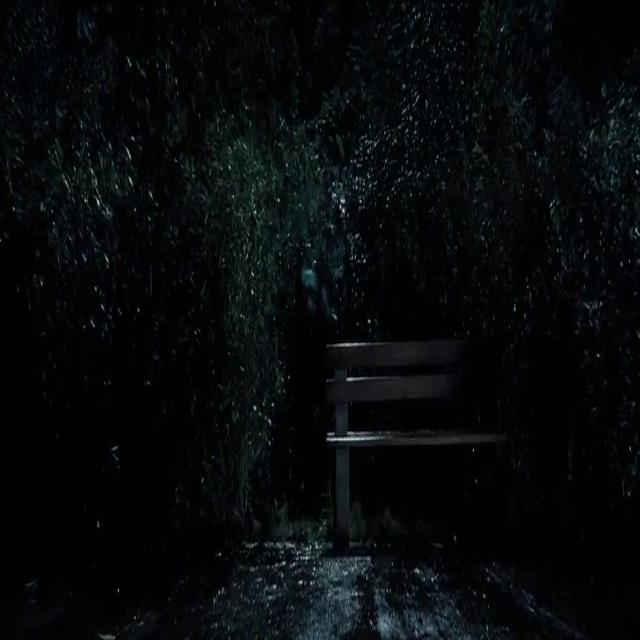Dog: (270, 238, 354, 556)
